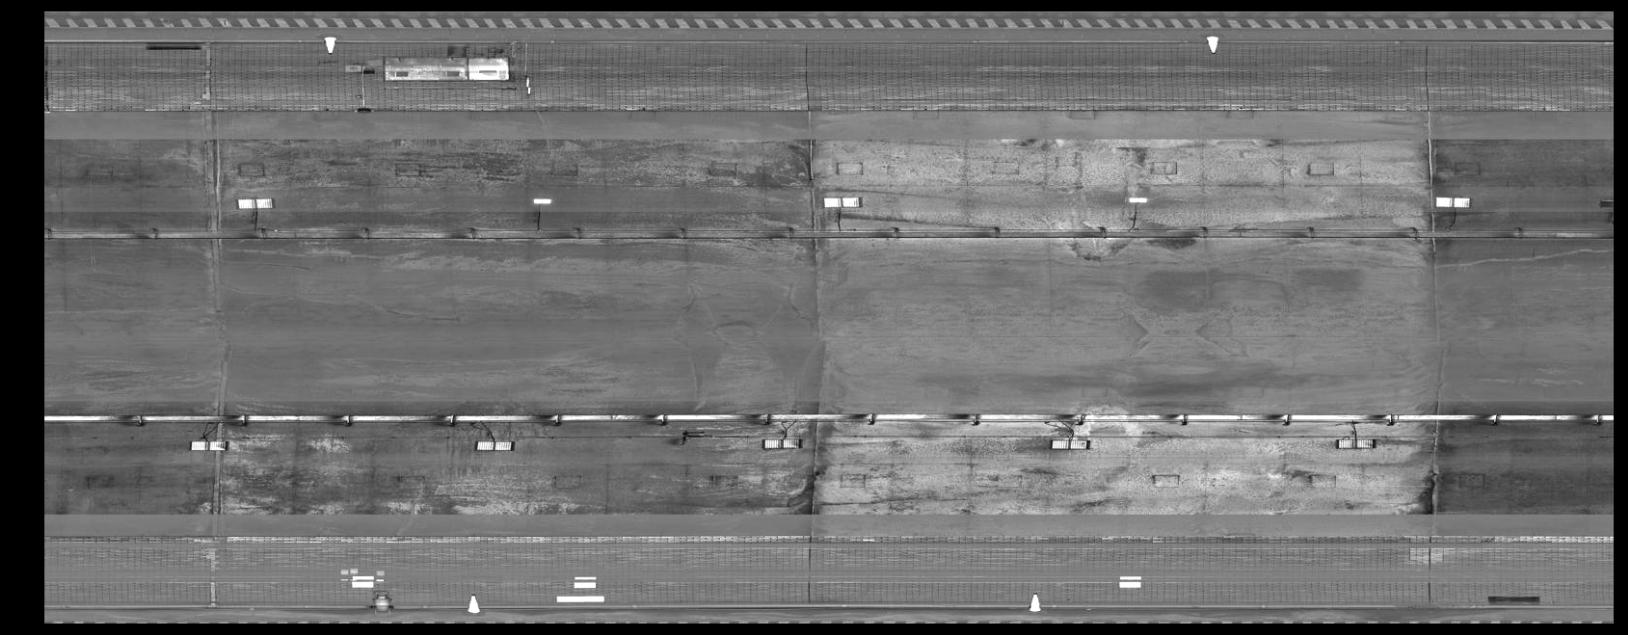light: (1047, 436, 1096, 454), (1332, 434, 1381, 452), (758, 434, 807, 452), (470, 437, 519, 455), (186, 437, 232, 453), (233, 195, 279, 211), (1433, 192, 1476, 209), (820, 193, 863, 210), (1122, 195, 1152, 205), (526, 196, 557, 206)
